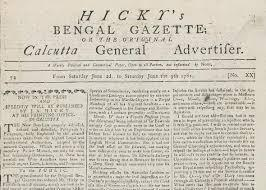Printing industry: (3, 1, 266, 190)
